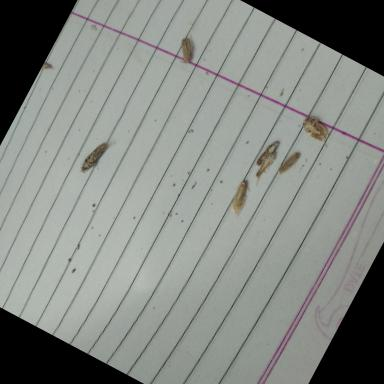pbw: (76, 132, 113, 180), (221, 177, 254, 220), (298, 114, 336, 148), (249, 150, 278, 188), (172, 32, 201, 66), (275, 148, 301, 180), (255, 138, 279, 170)
